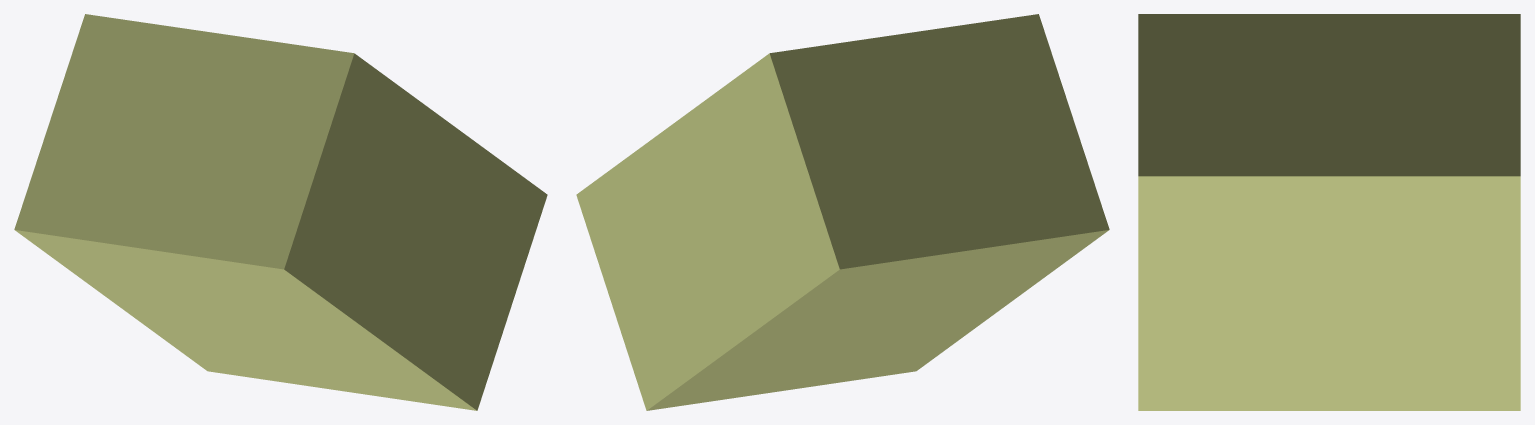
3 renders of one model, left to right at view 1: azimuth 30°, elevation 25°; view 2: azimuth 150°, elevation 25°; view 3: azimuth 270°, elevation 25°, orthographic.
Visible parts, largest first — view 1: 0_1_0_0_0_1_2_1_1_0_1; view 2: 0_1_0_0_0_1_2_1_1_0_1; view 3: 0_1_0_0_0_1_2_1_1_0_1.
Boxes of the visible parts, <box> form: 0_1_0_0_0_1_2_1_1_0_1: <box>14,14,547,410</box>; 0_1_0_0_0_1_2_1_1_0_1: <box>576,14,1109,410</box>; 0_1_0_0_0_1_2_1_1_0_1: <box>1138,14,1520,410</box>.
Bounding box in the file's own units: 6.1 × 5.21 × 6.
